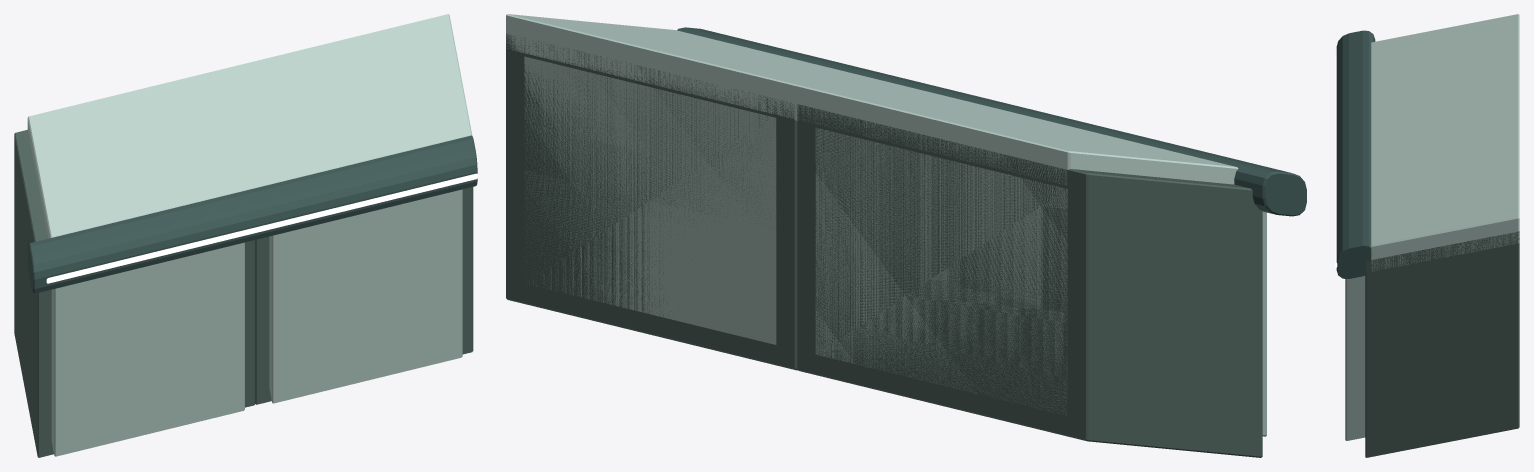
File: Terrain_TopRun2L.gltf
3 renders of one model, left to right at view 1: azimuth 30°, elevation 25°; view 2: azimuth 150°, elevation 25°; view 3: azimuth 270°, elevation 25°, orthographic. The views are drawn at different scales.
Visible parts, largest first — view 1: Terrain_TopRun2L_baked; view 2: Terrain_TopRun2L_baked; view 3: Terrain_TopRun2L_baked.
Boxes of the visible parts, x1,y1,x2,y2 form: Terrain_TopRun2L_baked: (14, 14, 477, 457); Terrain_TopRun2L_baked: (506, 14, 1306, 457); Terrain_TopRun2L_baked: (1335, 14, 1519, 457).
Size of the model in its own units: 2.33 by 1.18 by 0.74.
